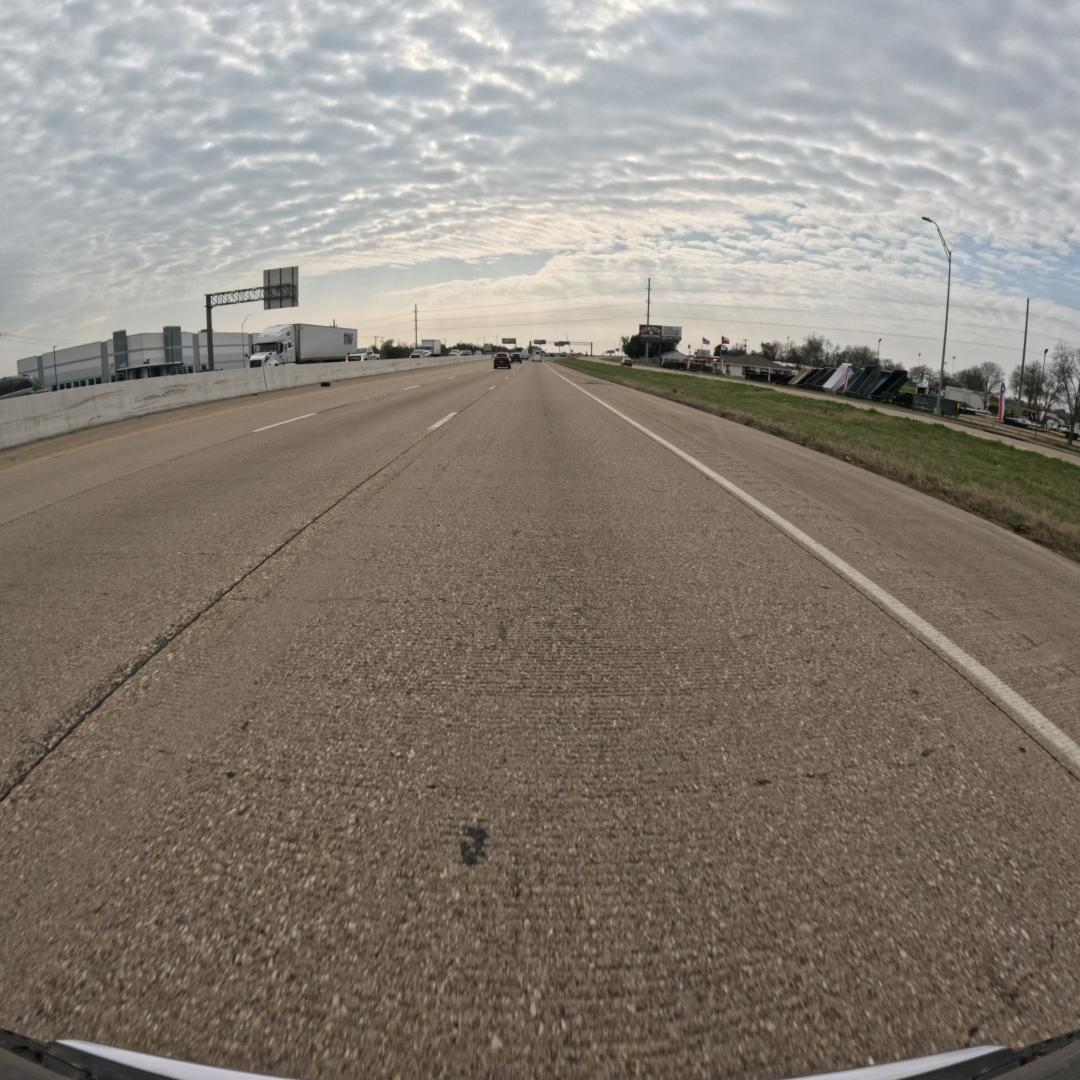lane0: (0, 370, 1080, 1080)
lane1: (0, 372, 505, 801)
